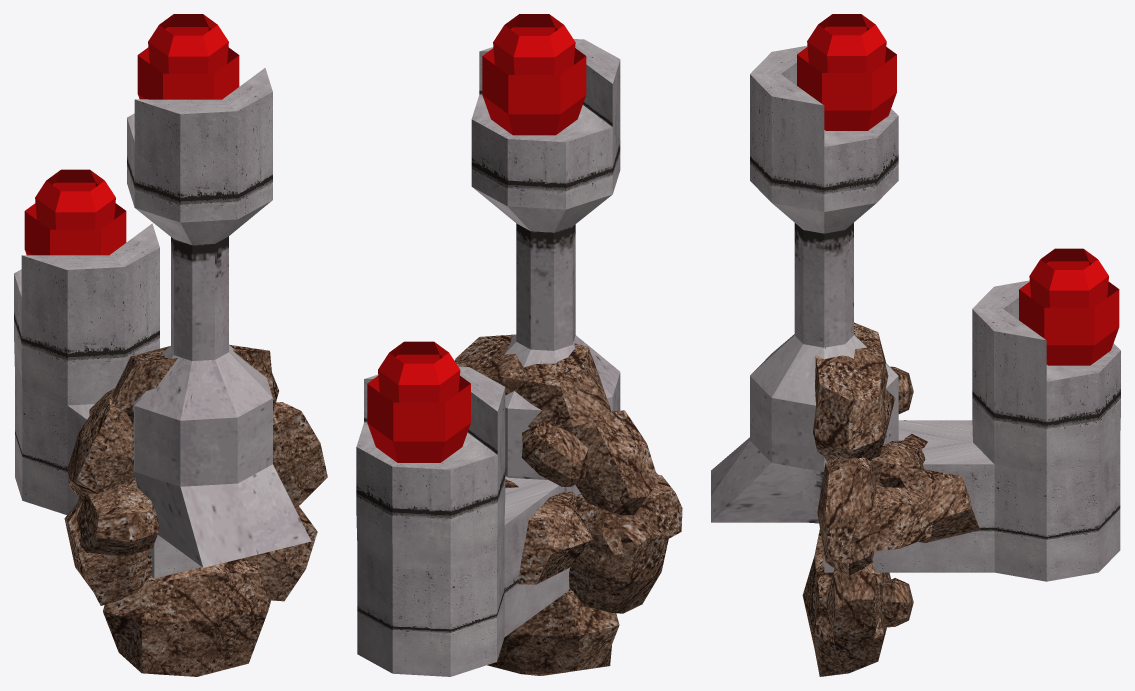
Rendered from Cave_Decorations1.fbx.
The picture shows the model from 3 angles, left to right: view 1: azimuth 30°, elevation 25°; view 2: azimuth 150°, elevation 25°; view 3: azimuth 270°, elevation 25°; orthographic projection. The views are drawn at different scales.
Visible parts, largest first — view 1: cave_farolillo.001, cave_farolillo; view 2: cave_farolillo.001, cave_farolillo; view 3: cave_farolillo.001, cave_farolillo.
Part boxes in pixels (x1,y1,x2,y2): cave_farolillo.001: (14, 169, 327, 676); cave_farolillo: (68, 14, 311, 567); cave_farolillo.001: (356, 334, 668, 676); cave_farolillo: (471, 14, 682, 584); cave_farolillo.001: (802, 248, 1120, 676); cave_farolillo: (711, 14, 980, 552).
Size of the model in its own units: 131 by 316 by 187.
